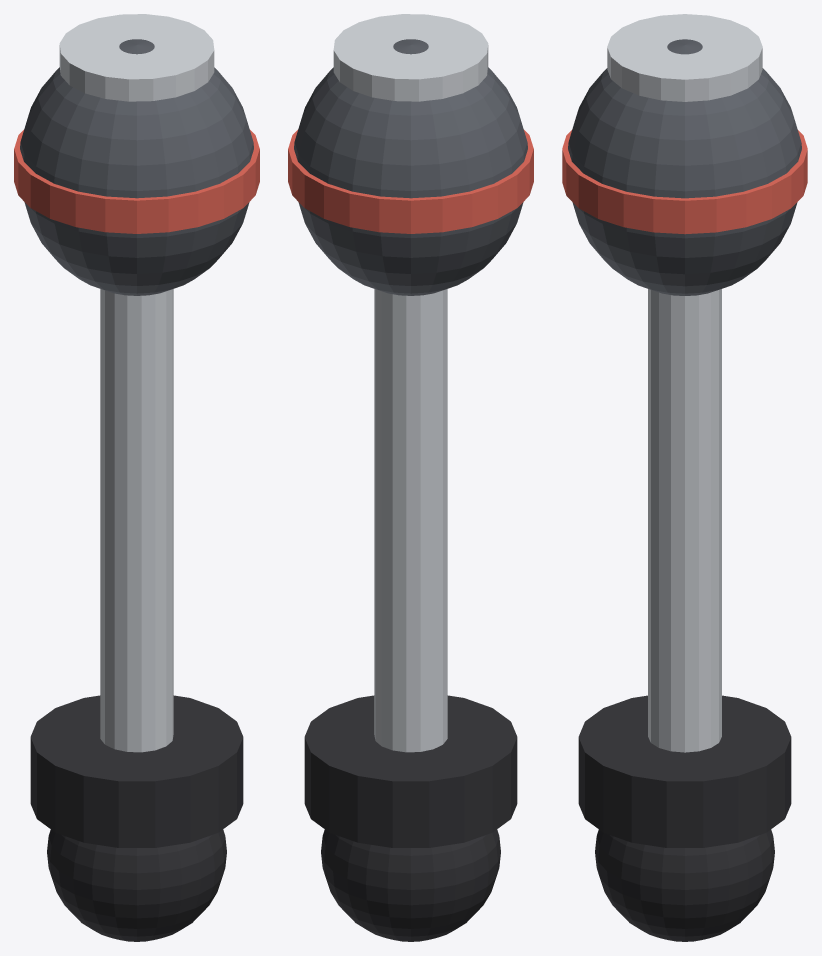
Rendered from shift_lever.glb.
The picture shows the model from 3 angles, left to right: view 1: azimuth 30°, elevation 25°; view 2: azimuth 150°, elevation 25°; view 3: azimuth 270°, elevation 25°; orthographic projection.
Visible parts, largest first — view 1: LeverShaft, ShiftKnob, BootRing, PivotBall, KnobTopCap, KnobBand; view 2: LeverShaft, ShiftKnob, BootRing, PivotBall, KnobTopCap, KnobBand; view 3: LeverShaft, ShiftKnob, BootRing, PivotBall, KnobTopCap, KnobBand.
Boxes of the visible parts, left/top/right/bottom form: LeverShaft: left=100, top=289, right=173, bottom=752; ShiftKnob: left=20, top=39, right=253, bottom=295; BootRing: left=30, top=695, right=243, bottom=847; PivotBall: left=47, top=829, right=226, bottom=941; KnobTopCap: left=59, top=14, right=214, bottom=101; KnobBand: left=14, top=130, right=259, bottom=233; LeverShaft: left=374, top=289, right=447, bottom=752; ShiftKnob: left=294, top=39, right=527, bottom=295; BootRing: left=304, top=695, right=517, bottom=847; PivotBall: left=321, top=829, right=500, bottom=941; KnobTopCap: left=333, top=14, right=488, bottom=101; KnobBand: left=288, top=130, right=533, bottom=233; LeverShaft: left=648, top=289, right=721, bottom=752; ShiftKnob: left=568, top=39, right=801, bottom=295; BootRing: left=578, top=695, right=791, bottom=847; PivotBall: left=595, top=829, right=774, bottom=941; KnobTopCap: left=607, top=14, right=762, bottom=101; KnobBand: left=562, top=130, right=807, bottom=234.
Size of the model in its own units: 0.06 by 0.2395 by 0.06.
